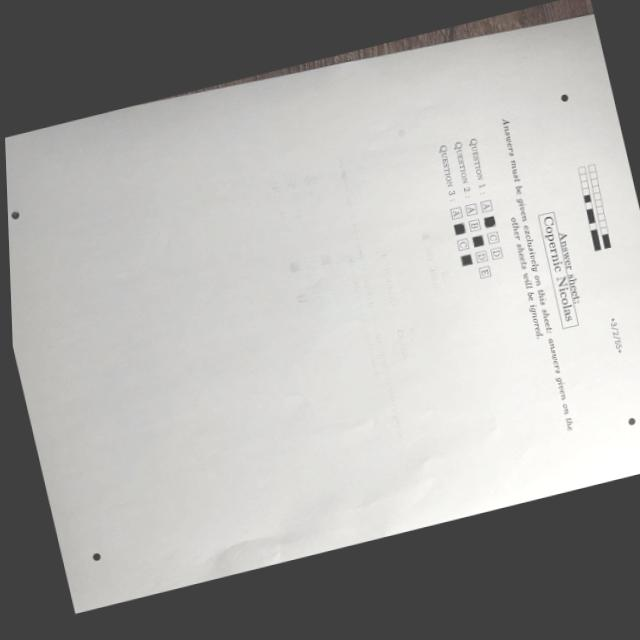Markers: (9, 210, 20, 221), (92, 552, 101, 562), (560, 93, 569, 102), (627, 417, 636, 425)
